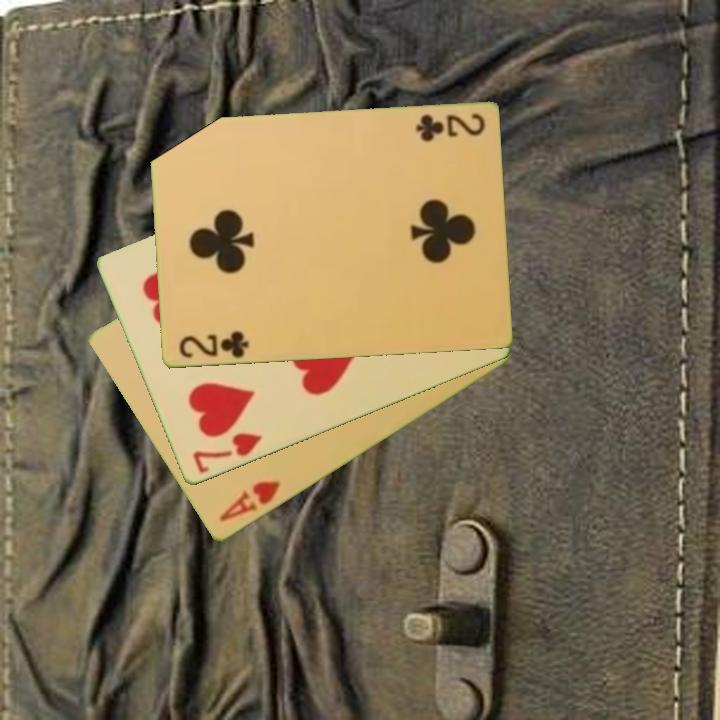2c: (175, 328, 252, 362), (412, 110, 488, 144)
7h: (189, 429, 265, 477)
Ah: (215, 477, 284, 525)
